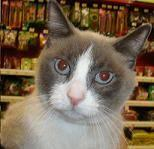cat: (1, 0, 150, 148)
